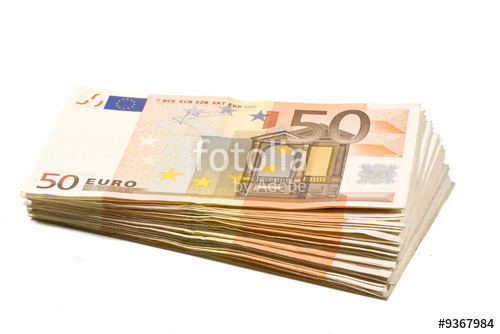billete: (19, 83, 458, 302)
